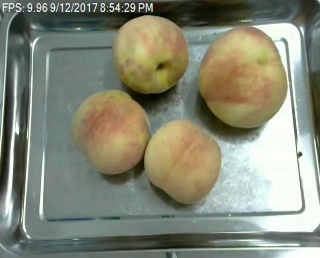Peach: (199, 23, 287, 128), (72, 89, 149, 175), (143, 120, 222, 203), (113, 13, 189, 95)
